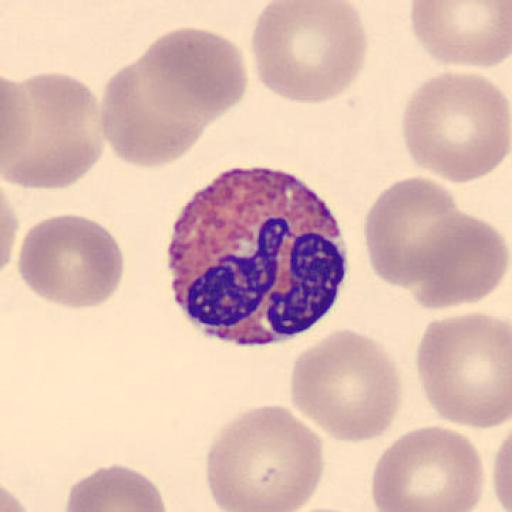RBC: (203, 403, 326, 512), (289, 328, 404, 444), (400, 69, 512, 185), (1, 70, 106, 190), (250, 1, 369, 105), (100, 57, 208, 169), (414, 309, 512, 430), (16, 212, 126, 311), (363, 174, 459, 287), (404, 212, 509, 310), (370, 424, 485, 512), (139, 26, 248, 118), (409, 0, 512, 67), (62, 462, 167, 512), (0, 185, 20, 282), (490, 424, 512, 512), (0, 458, 31, 511), (493, 436, 512, 512), (0, 474, 33, 512), (1, 482, 30, 512), (285, 505, 379, 512)
WBC: (164, 164, 349, 347)
